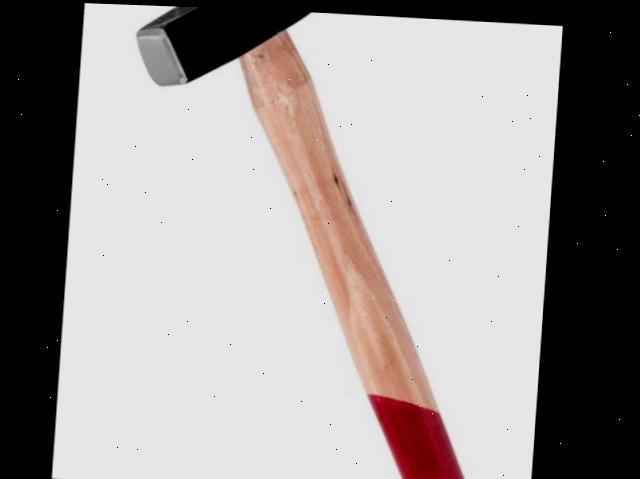hammer: (104, 4, 550, 479)
